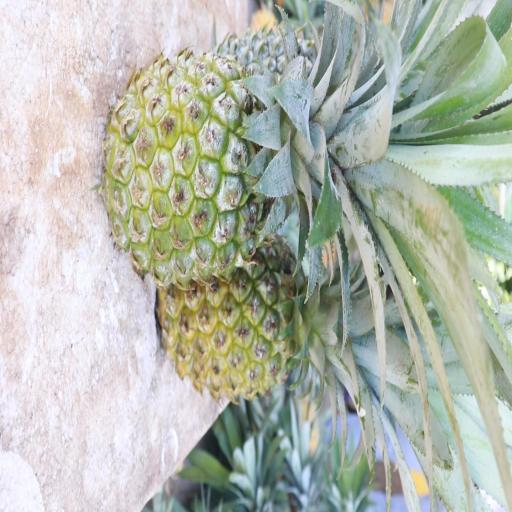------------------------------: (98, 45, 400, 294)
Pineapple - v8 v1: (149, 224, 385, 409)
